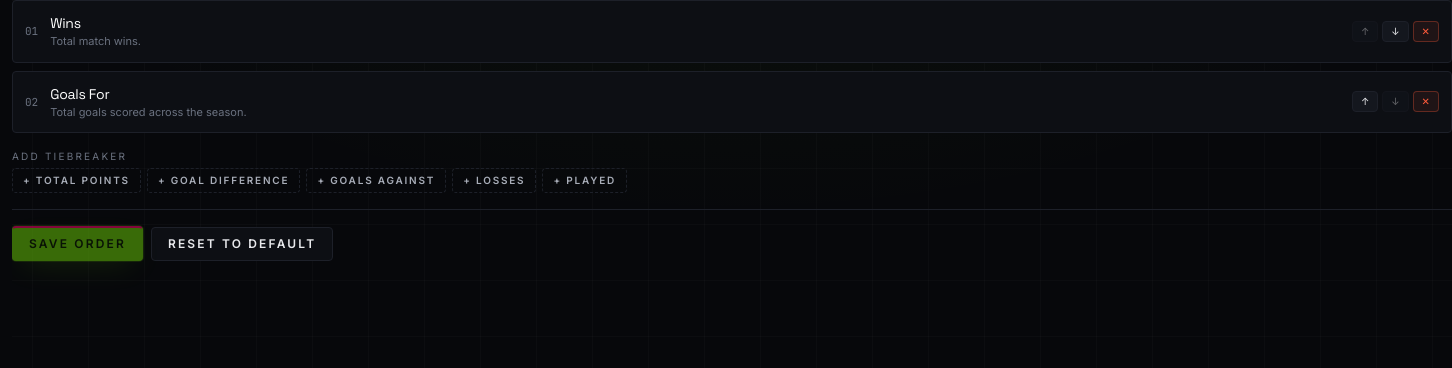
Test: TiebreakerDragRank › Reset restores the canonical default order
This screenshot has width=1452, height=368.
Click the button "Reset to default" at (242, 244), box [151,226,333,260]
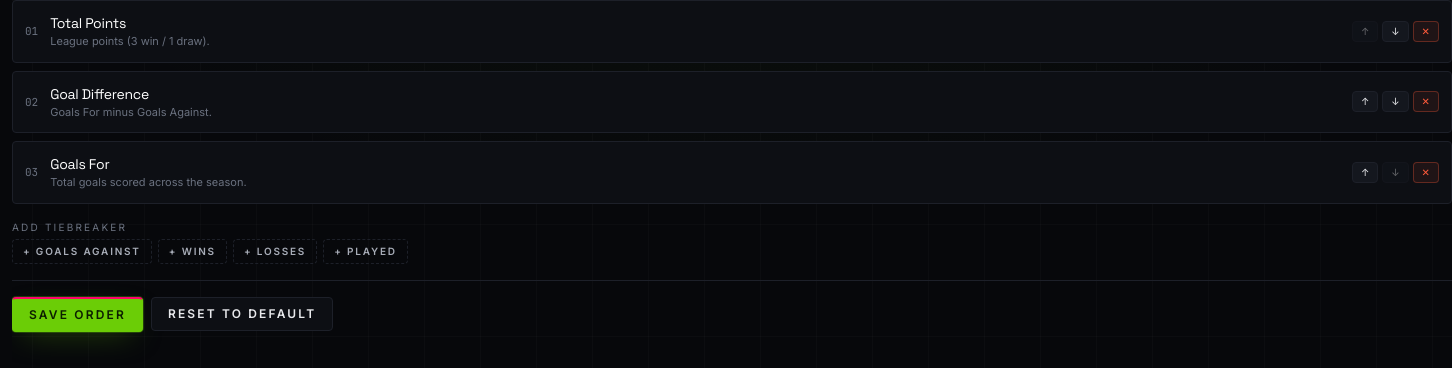
Check: the list item with test id "tiebreaker-row-gf" is shown, box [12,141,1451,204]
Check: the list item with test id "tiebreaker-row-totalPts" is shown, box [12,0,1451,62]
Check: the list item with test id "tiebreaker-row-gd" is shown, box [12,70,1451,133]
